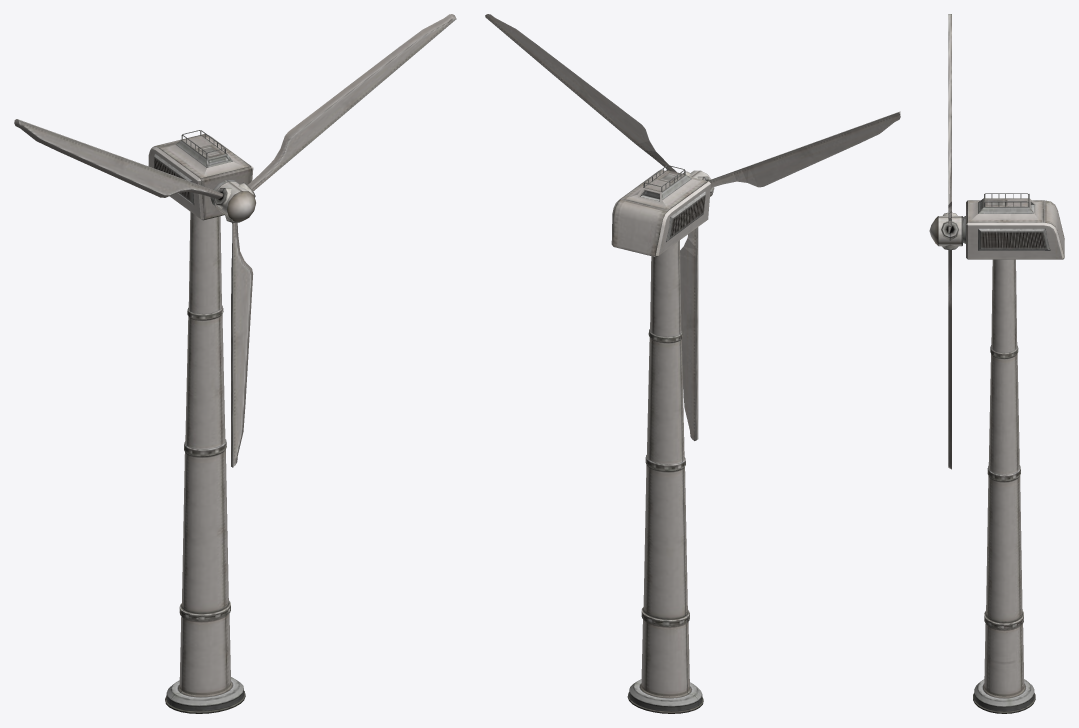
The model's file is windturbine90.obj.
3 views of the same model, side by side, from view 1: azimuth 30°, elevation 25°; view 2: azimuth 150°, elevation 25°; view 3: azimuth 270°, elevation 25° (orthographic). The views are drawn at different scales.
Parts seen in each view (by area): view 1: Turbine_Main, Turbine_Fan; view 2: Turbine_Main, Turbine_Fan; view 3: Turbine_Main, Turbine_Fan.
Boxes of the visible parts, left/top/right/bottom form: Turbine_Main: left=148, top=130, right=253, bottom=713; Turbine_Fan: left=14, top=14, right=456, bottom=467; Turbine_Main: left=611, top=165, right=710, bottom=713; Turbine_Fan: left=485, top=14, right=900, bottom=440; Turbine_Main: left=963, top=193, right=1064, bottom=713; Turbine_Fan: left=929, top=14, right=962, bottom=469.
Size of the model in its own units: 160 by 227 by 47.26.
2 materials, 2 textured.
